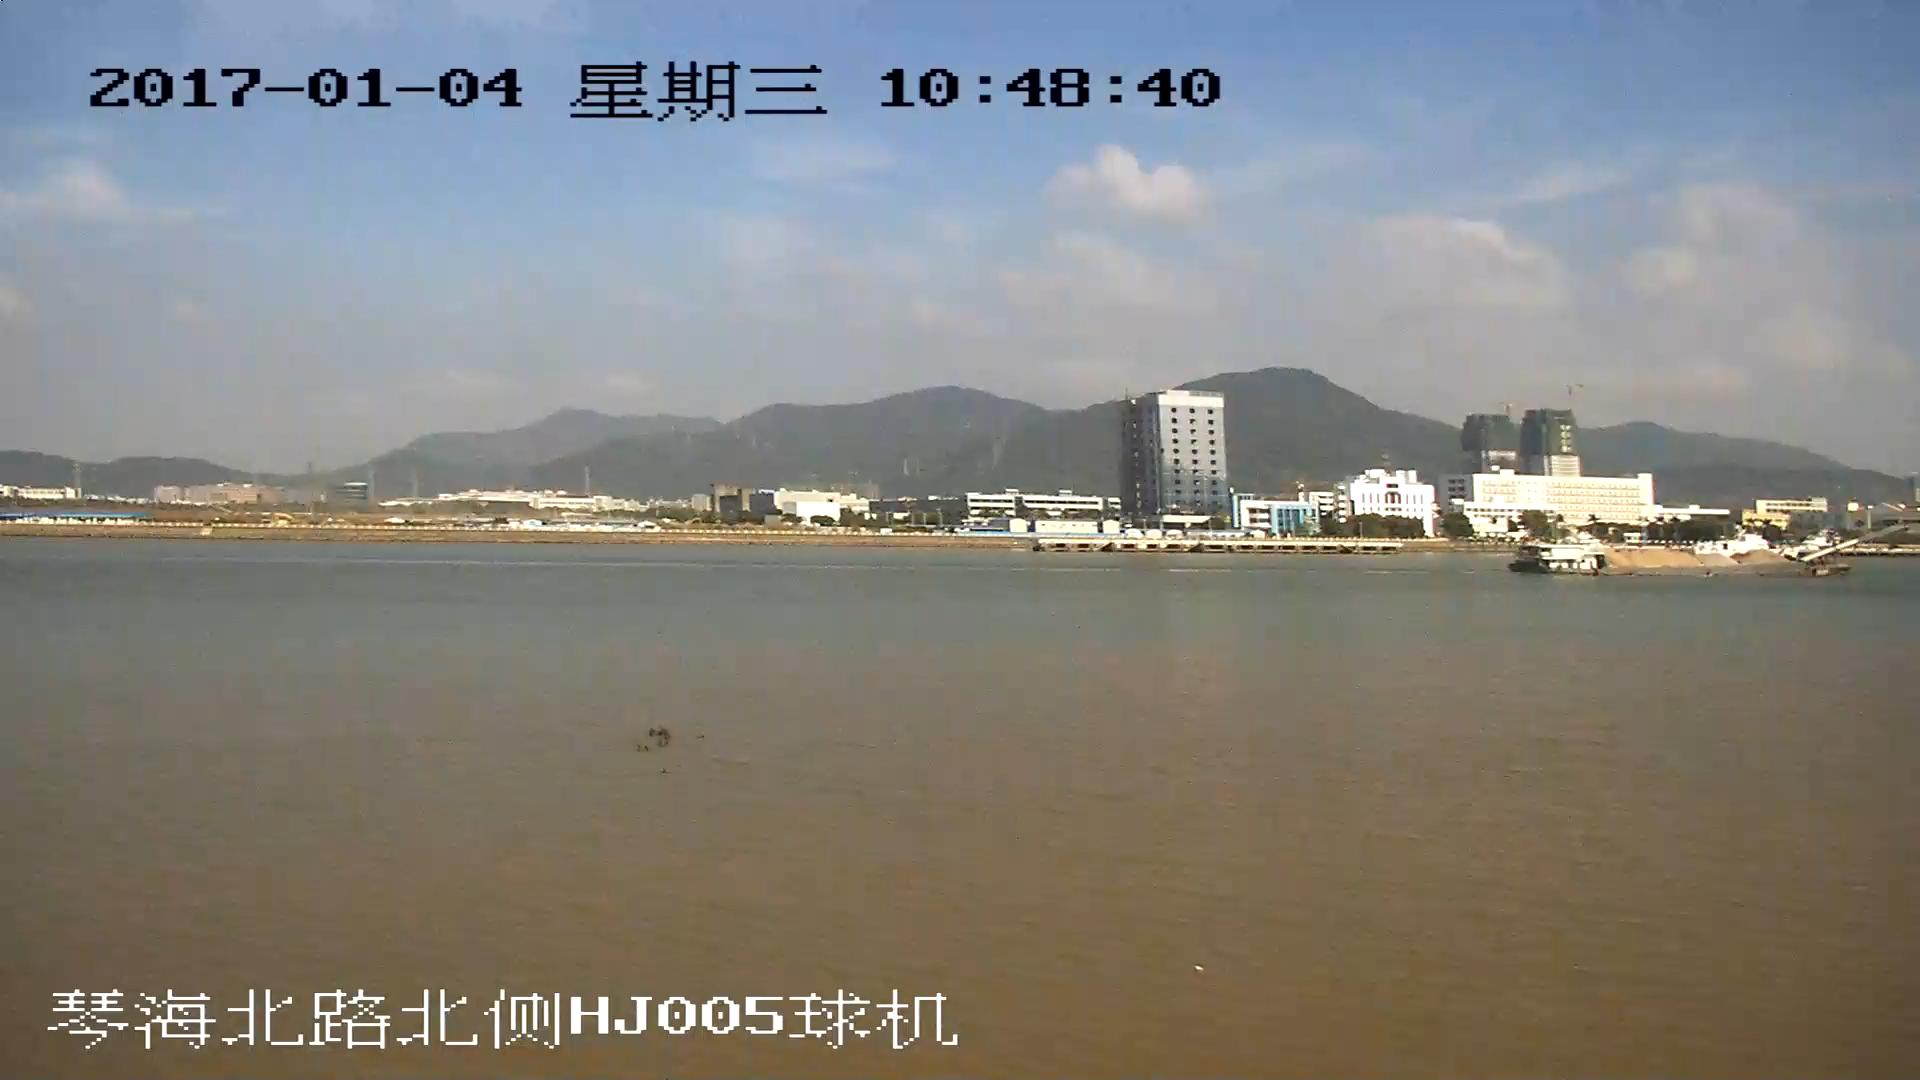ore carrier: (1512, 520, 1909, 575)
